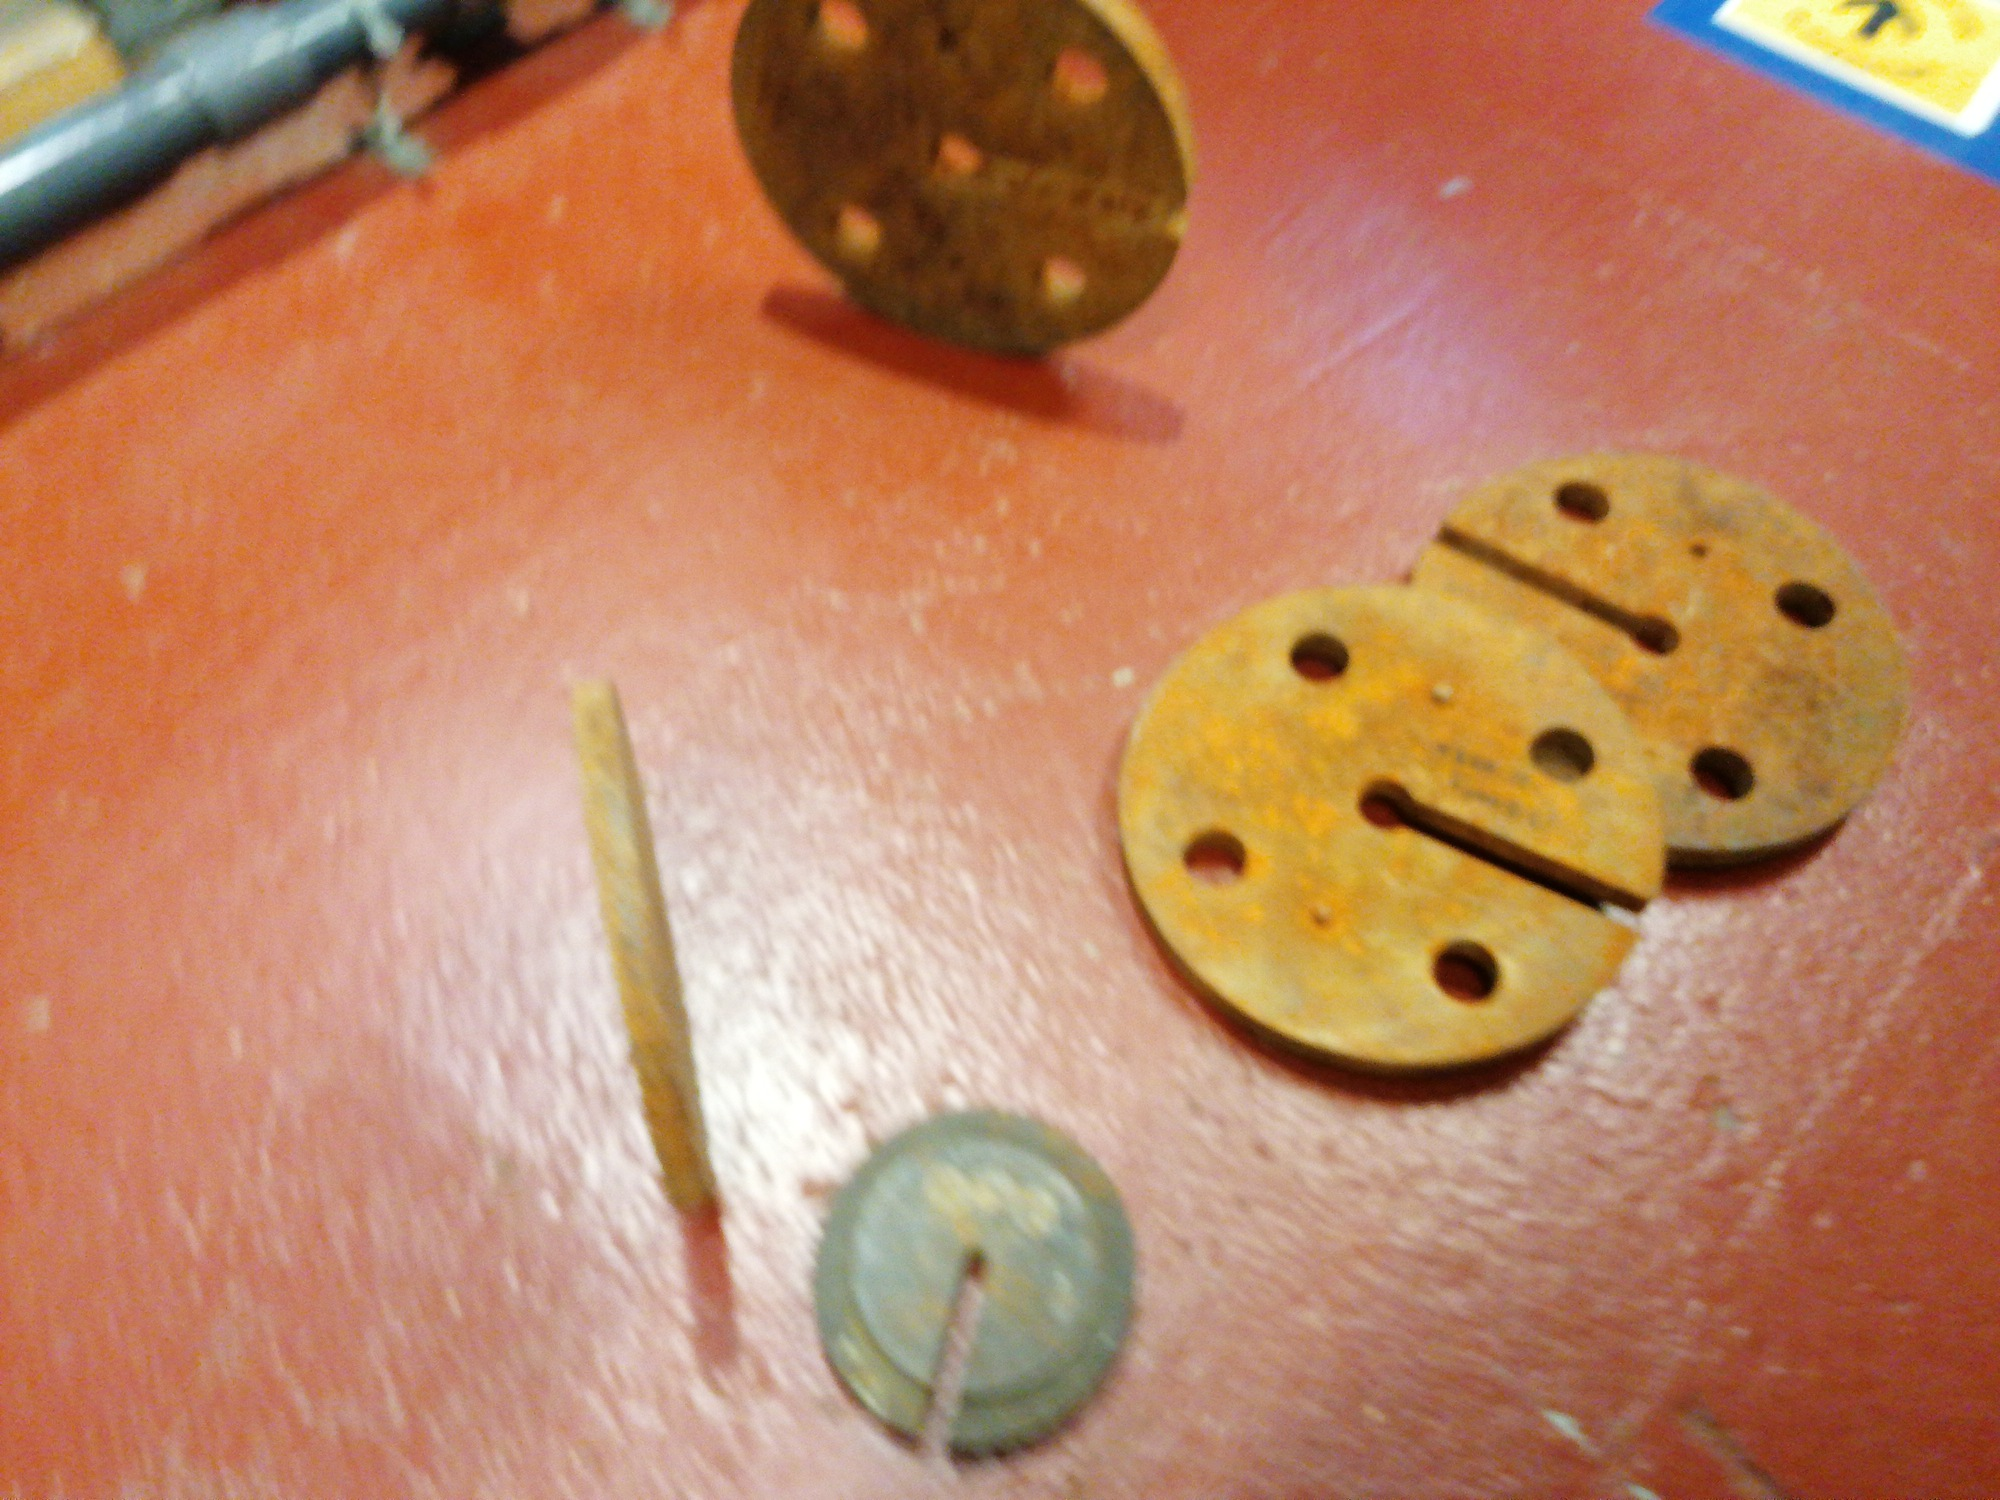flange: (1115, 581, 1669, 1082), (1405, 446, 1912, 874), (724, 0, 1198, 359), (816, 1109, 1137, 1457), (561, 671, 718, 1213)
